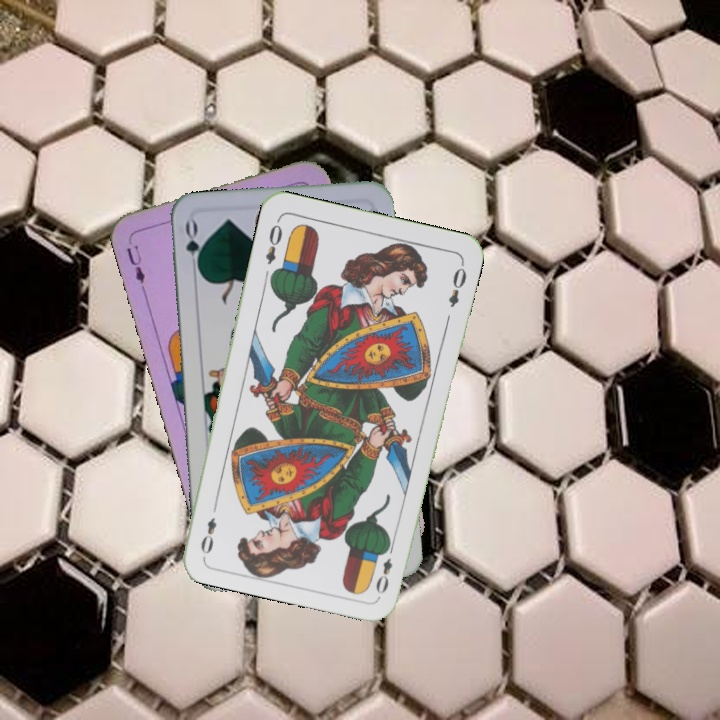EO: (372, 539, 397, 597), (261, 215, 285, 267)
EU: (122, 235, 148, 286)
GO: (181, 217, 204, 277)
